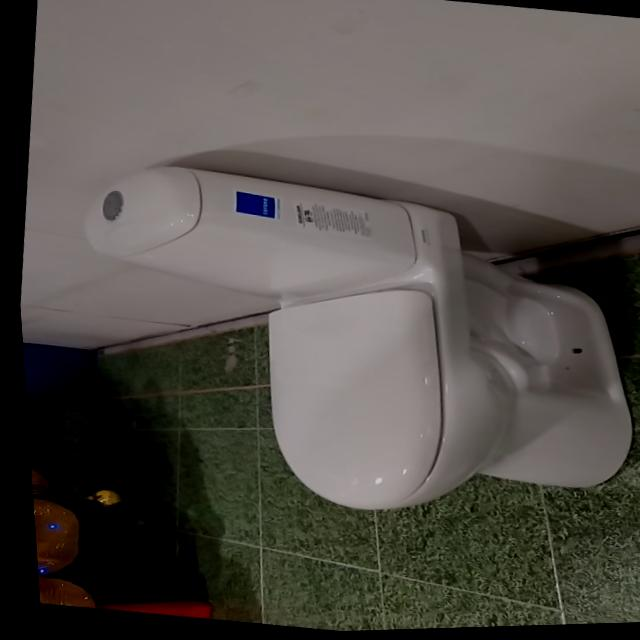toilet: (46, 144, 640, 551)
